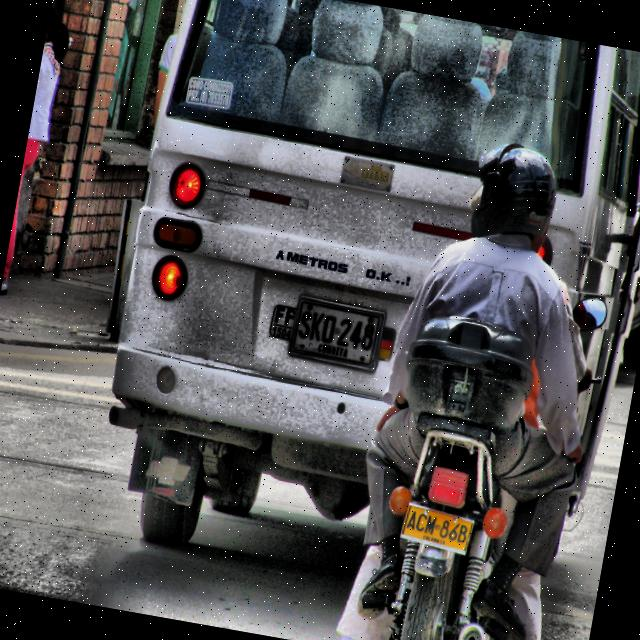plate: (288, 294, 386, 371)
